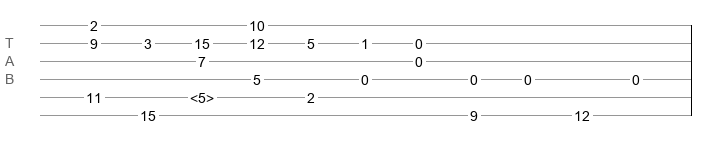0: (361, 72, 369, 82), (415, 54, 423, 64), (415, 36, 423, 46), (470, 72, 478, 82), (524, 72, 532, 82), (632, 72, 640, 82)
1: (361, 36, 369, 46)
10: (249, 18, 265, 28)
11: (86, 90, 102, 100)
12: (249, 36, 265, 46), (574, 108, 590, 118)
15: (140, 108, 156, 118), (194, 36, 210, 46)
2: (90, 18, 98, 28), (307, 90, 315, 100)
3: (144, 36, 152, 46)
5: (253, 72, 261, 82), (307, 36, 315, 46)
7: (198, 54, 206, 64)
9: (90, 36, 98, 46), (470, 108, 478, 118)
harmonic: (190, 90, 214, 100)
